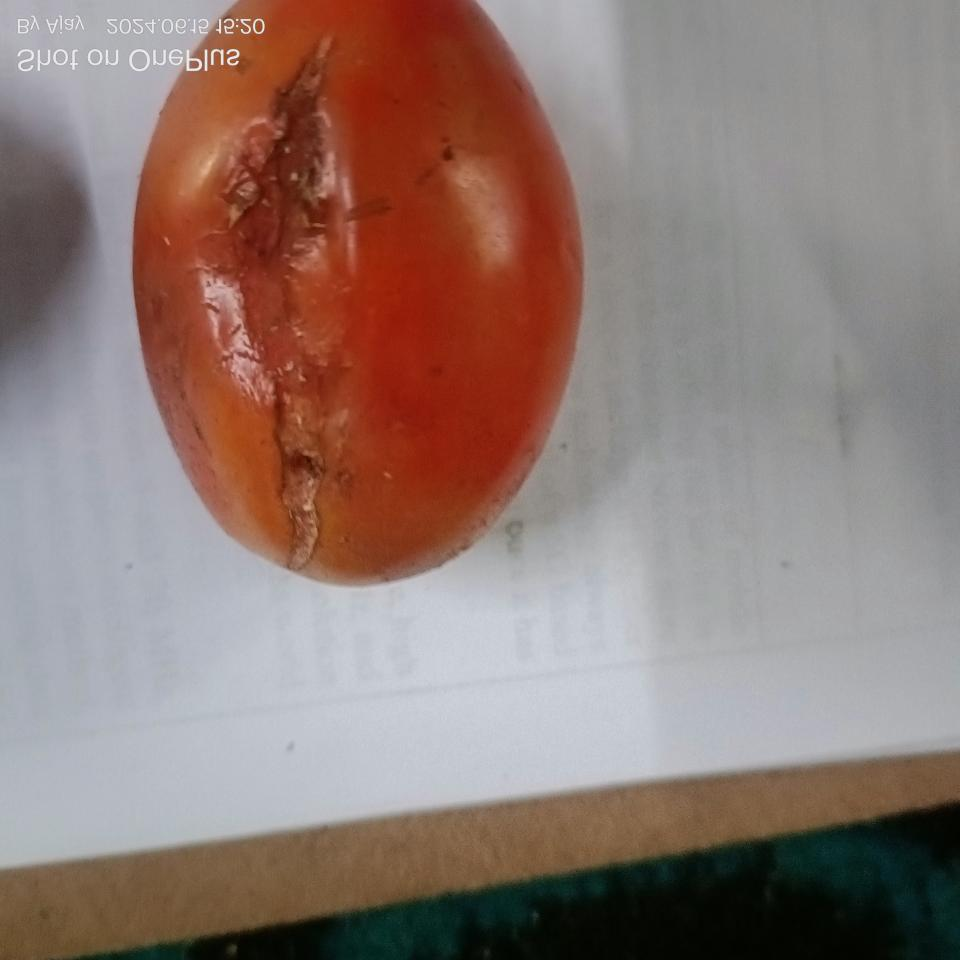Cracking: (201, 50, 361, 561)
